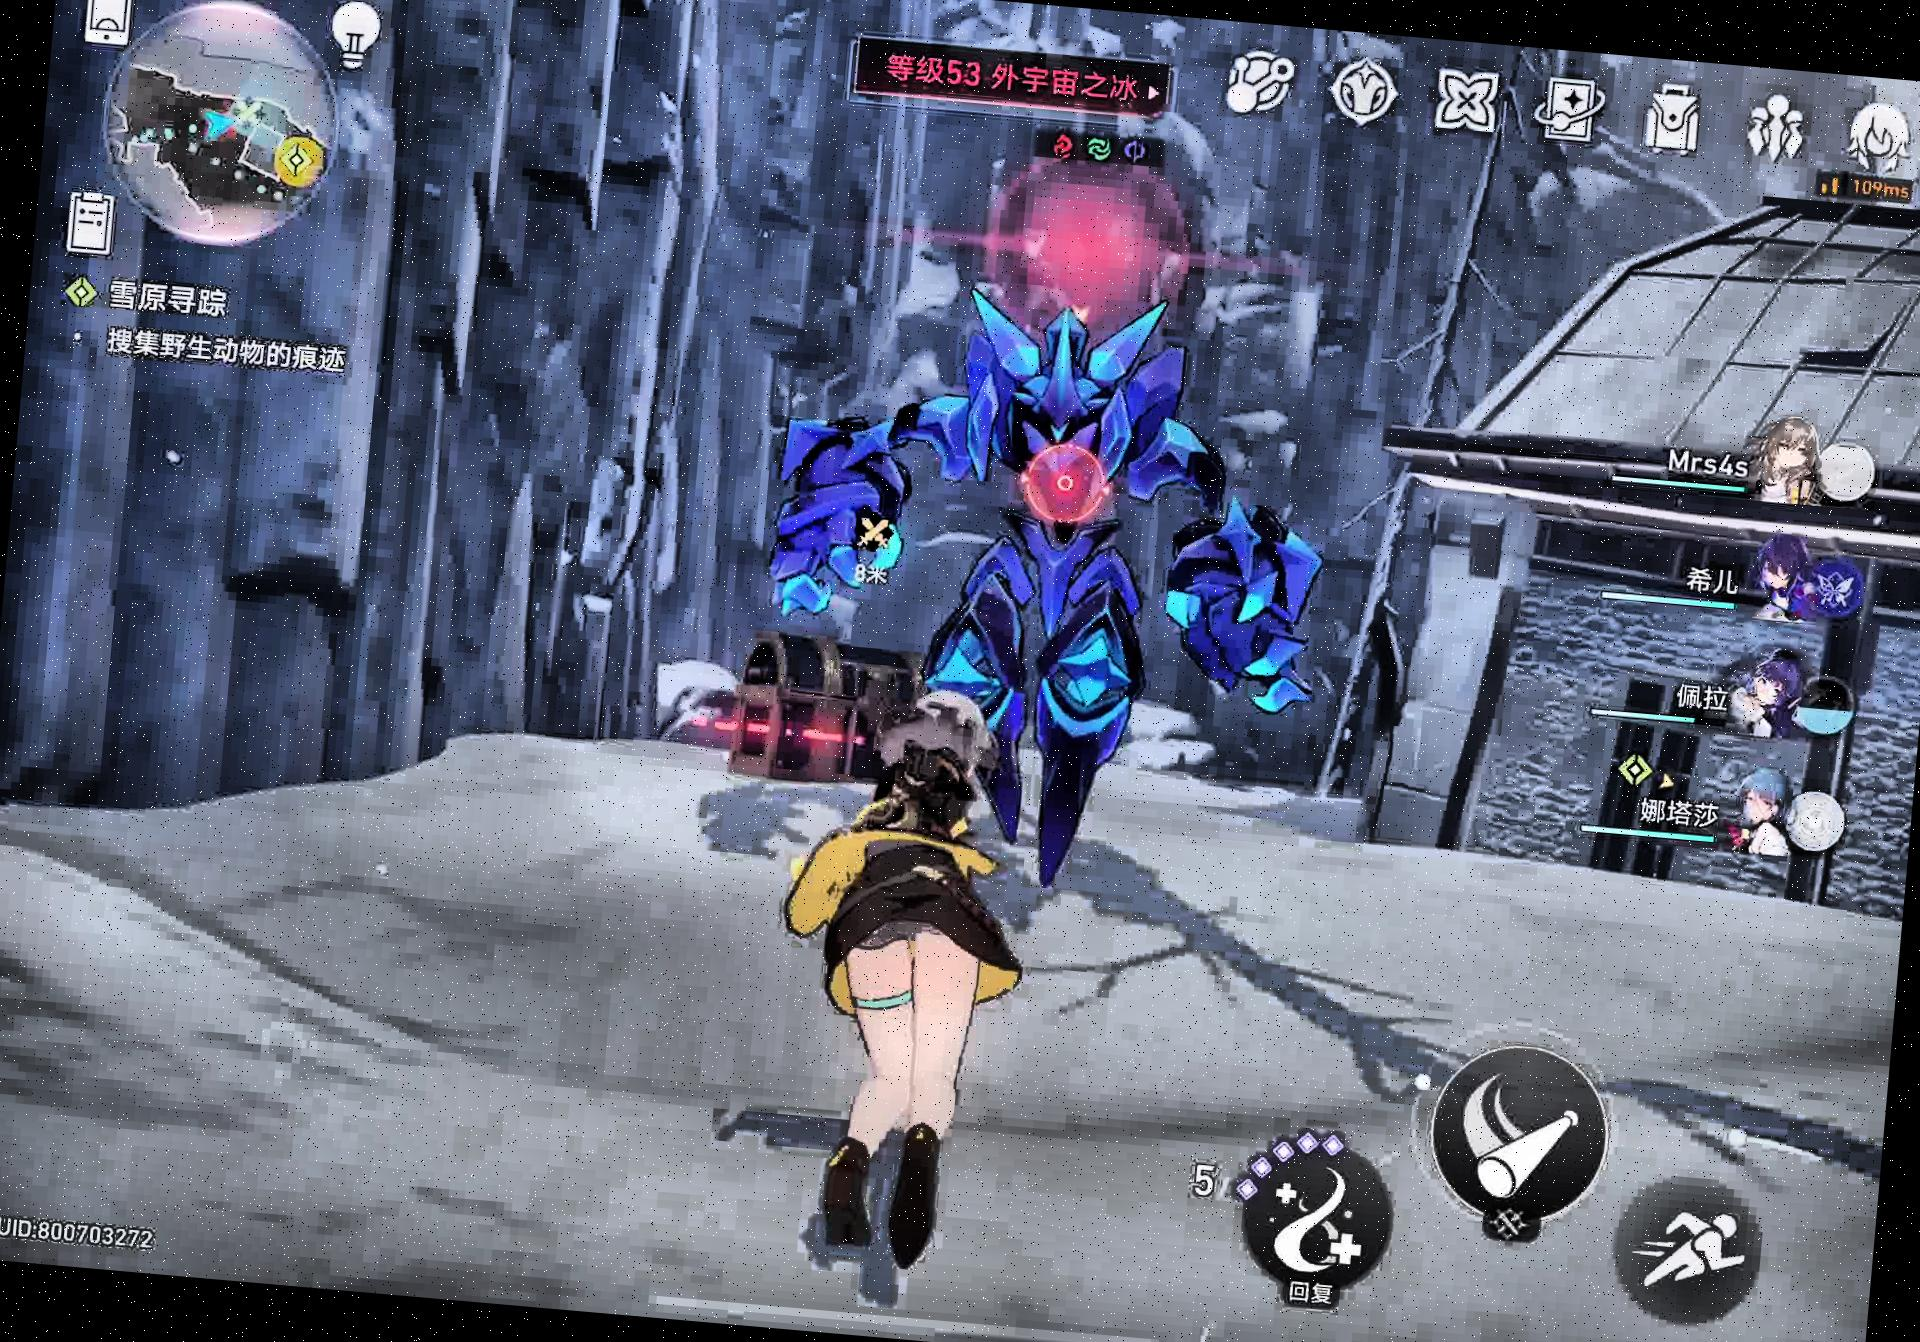Enemy: (735, 279, 1348, 896)
Self: (756, 710, 1052, 1288)
